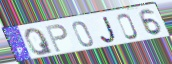0: (72, 20, 95, 48), (117, 13, 140, 41)
6: (138, 8, 164, 37)
J: (99, 15, 118, 44)
P: (44, 23, 69, 54)
Q: (24, 27, 56, 57)
